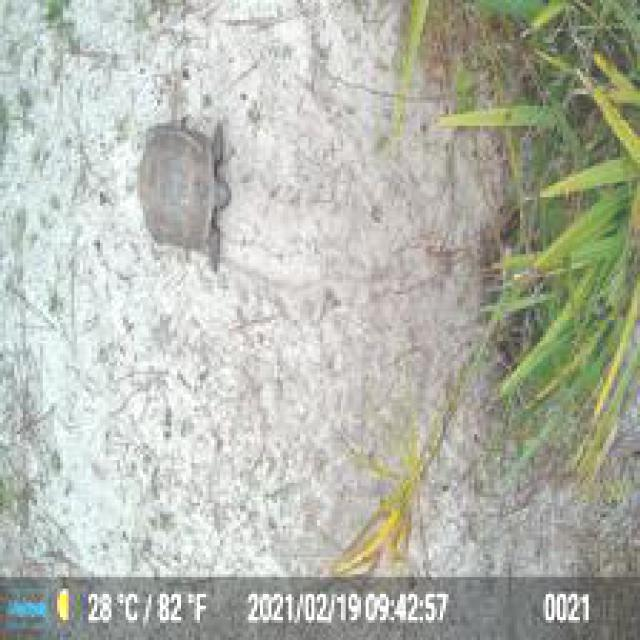tortoise: (134, 117, 240, 269)
